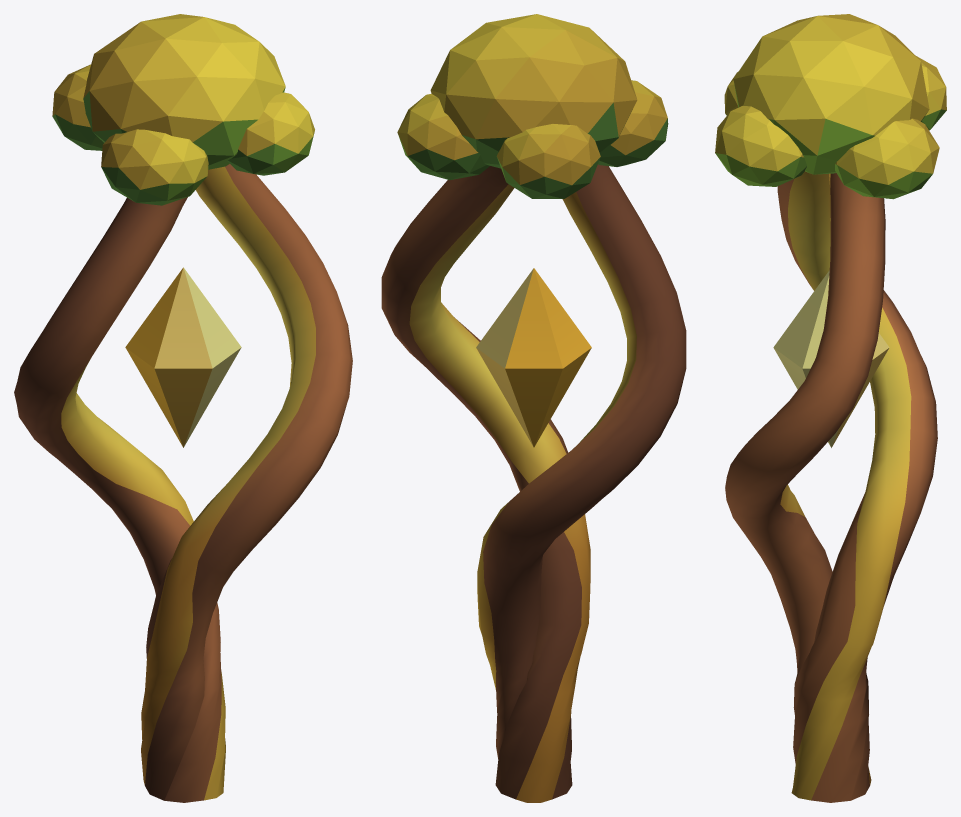
File: Infinity_Tree_Remake_Canopy.glb
The picture shows the model from 3 angles, left to right: view 1: azimuth 30°, elevation 25°; view 2: azimuth 150°, elevation 25°; view 3: azimuth 270°, elevation 25°; orthographic projection.
Parts seen in each view (by area): view 1: Infinity_Remake; view 2: Infinity_Remake; view 3: Infinity_Remake.
Boxes of the visible parts, <box> form: Infinity_Remake: <box>14,14,352,802</box>; Infinity_Remake: <box>381,14,686,802</box>; Infinity_Remake: <box>715,14,946,802</box>.
Size of the model in its own units: 6.15 by 14.69 by 4.07.
